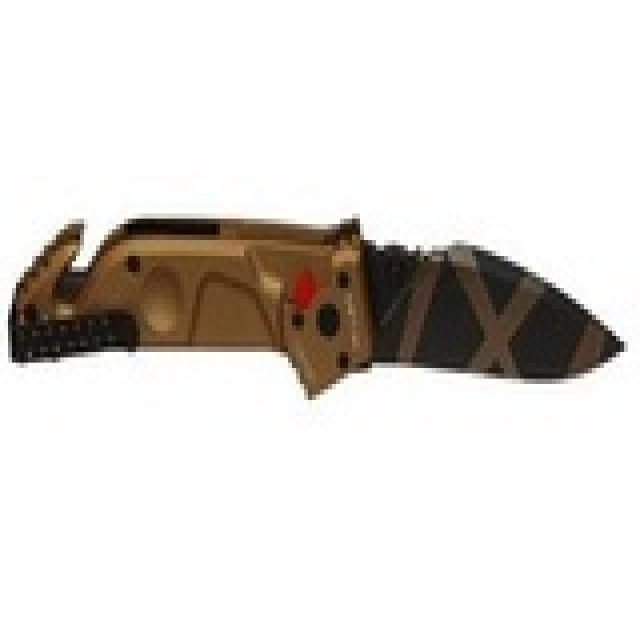Knife: (12, 177, 627, 425)
